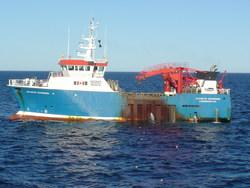Cargoship: (4, 19, 237, 125)
